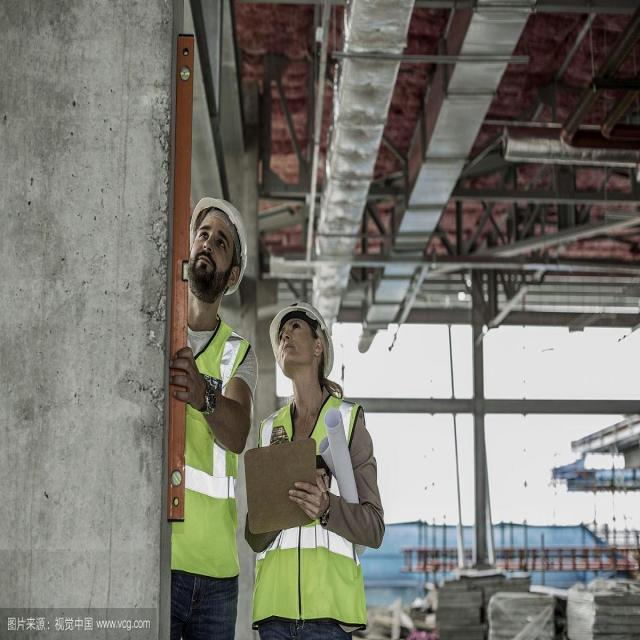face_nomask: (187, 218, 238, 292), (274, 314, 314, 368)
hand_noglove: (286, 476, 336, 522), (167, 345, 198, 409)
head_helmet: (190, 195, 251, 300), (268, 301, 336, 374)
person: (258, 296, 388, 638), (175, 195, 255, 636)
vest: (255, 391, 370, 625), (172, 311, 246, 580)
